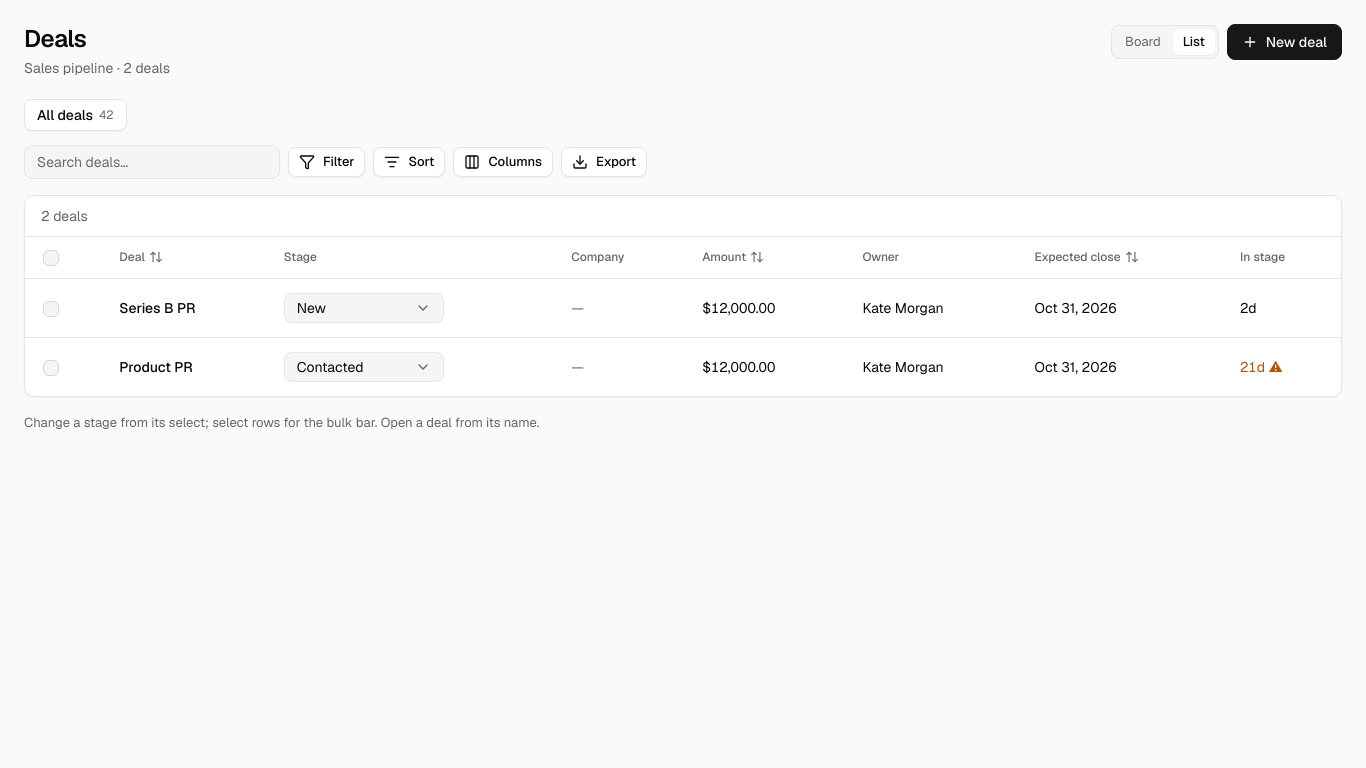
Test case: DealsPage › assigns an owner to selected deals with one bulk request and reports what changed
Expected: the column heading "Deal" is shown, [101,237,266,278]
Click the checkbox named "Select all": click(51, 258) [43,250,59,266]
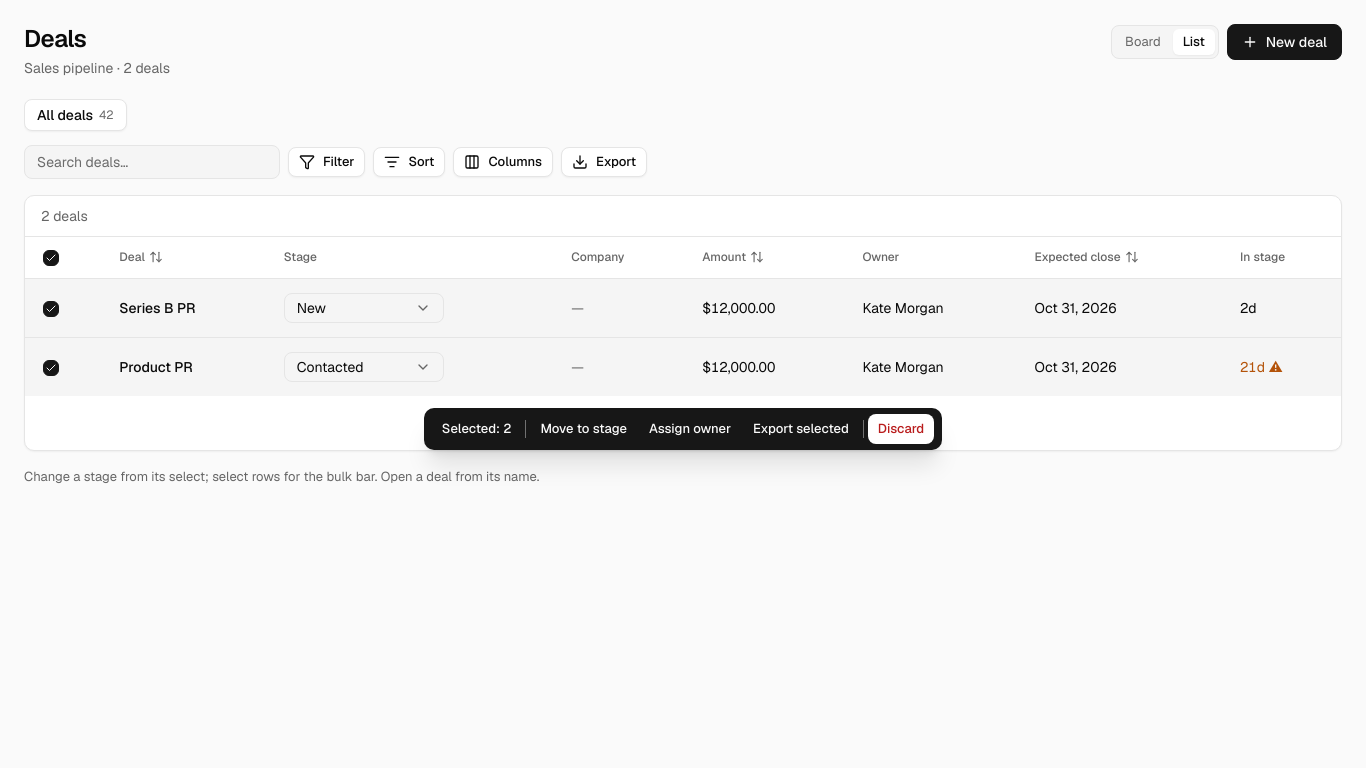
Click the button "Assign owner": click(690, 429) [639,414,741,444]
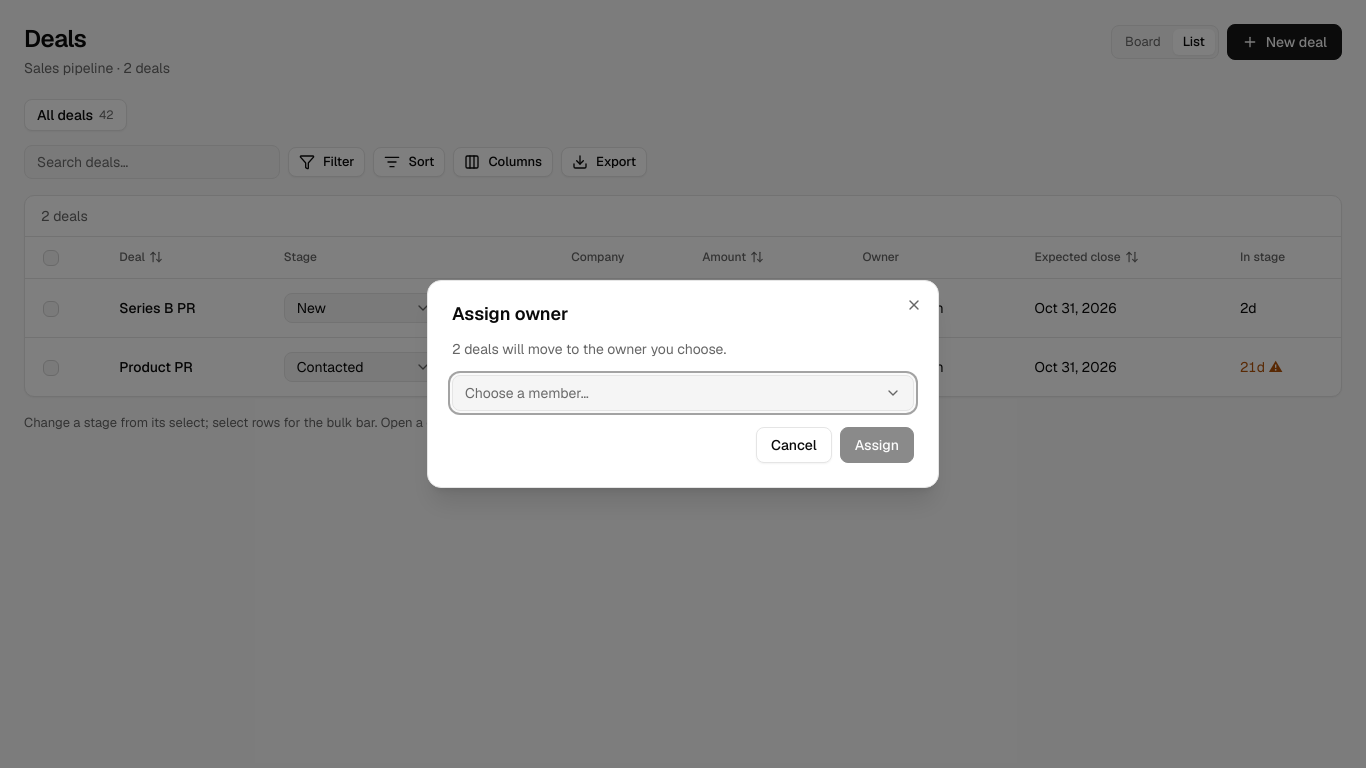
Click the dropdown named "Owner": click(527, 393) [452,375,914,411]
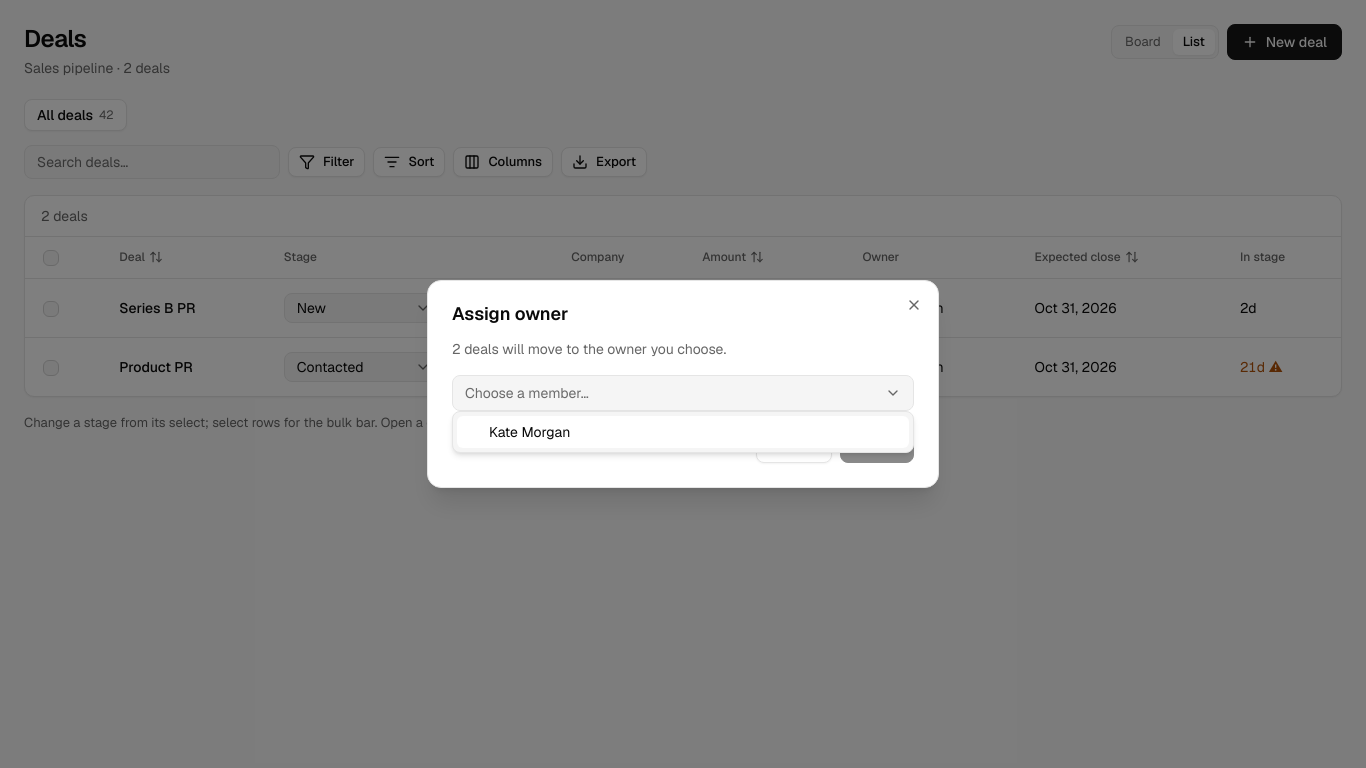
Click the option "Kate Morgan": click(530, 432) [457,416,909,448]
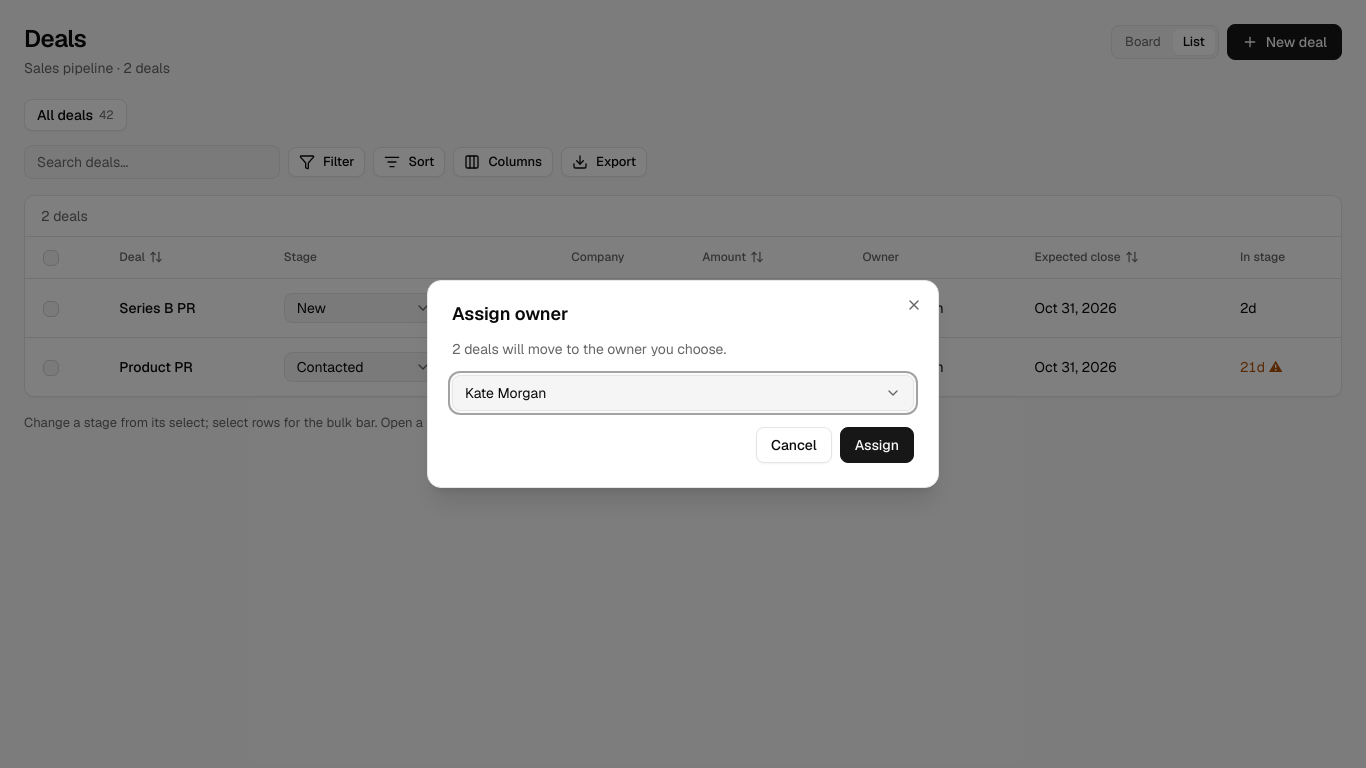
Click the button "Assign": click(877, 445) [840,427,914,463]
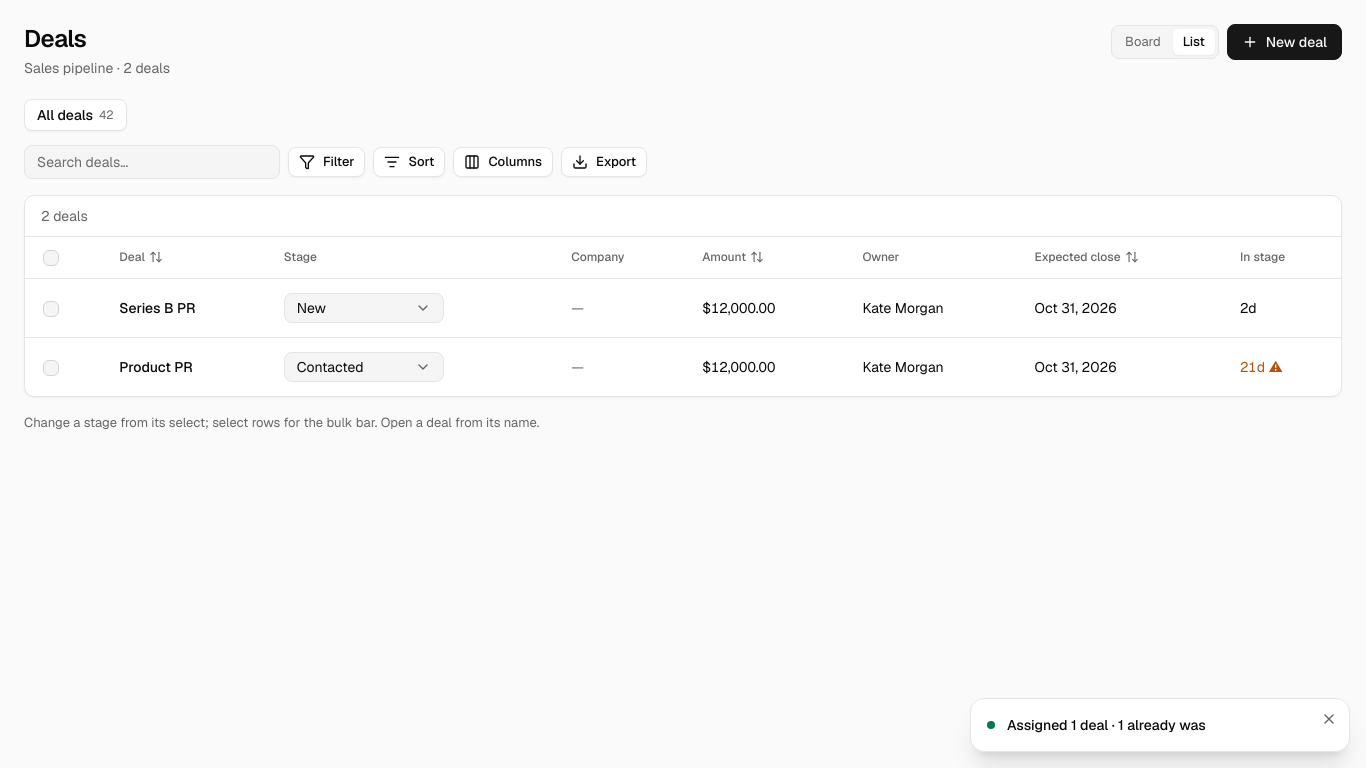
Expected: the text "Assigned 1 deal · 1 already was" is shown, [1007,715,1206,735]
